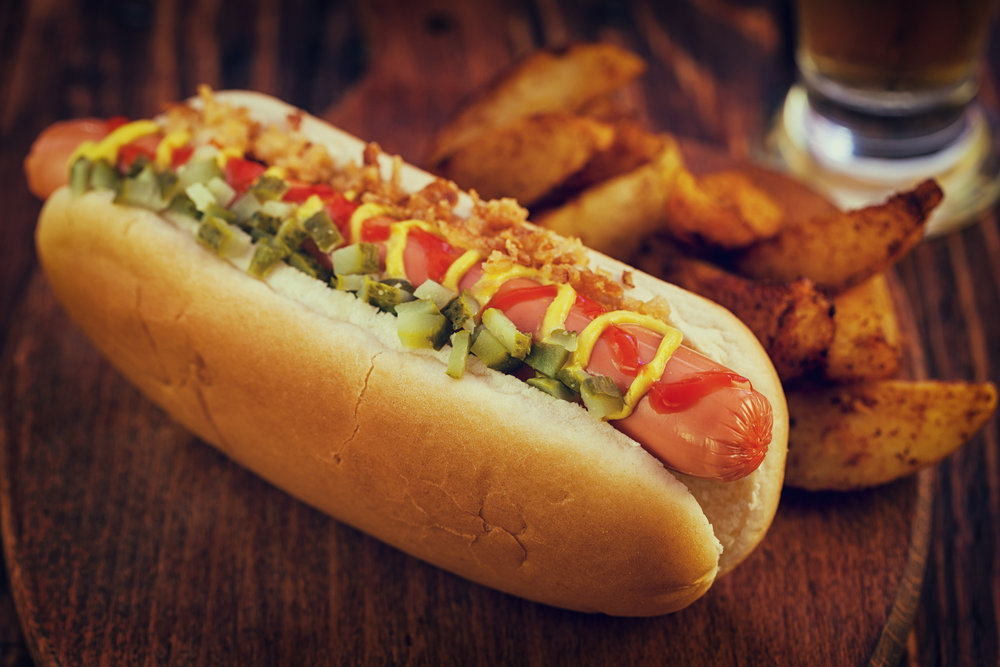hotdog: (22, 83, 805, 624)
